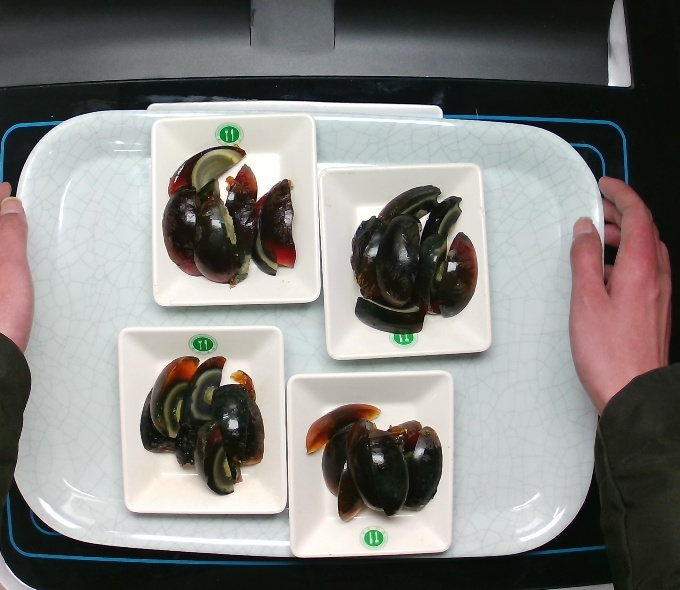wcq-PiDan: (151, 135, 301, 291), (126, 342, 274, 497), (343, 177, 481, 335), (302, 389, 450, 526)
